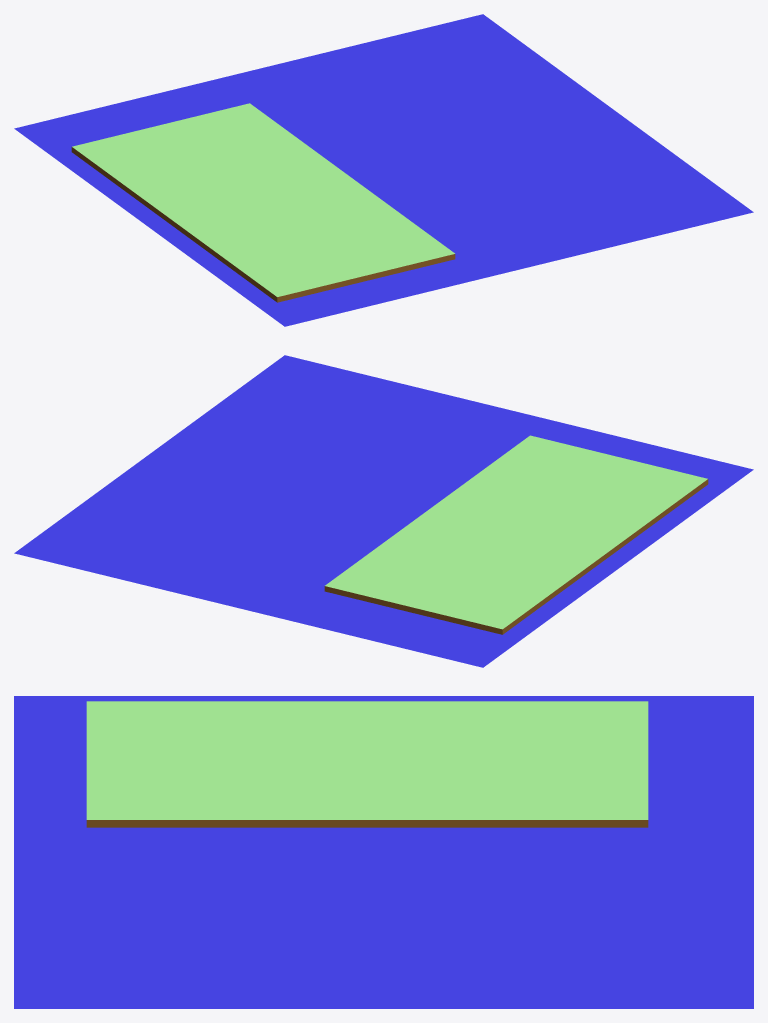
File: terrain.gltf
3 views of the same model, one above another, from view 1: azimuth 30°, elevation 25°; view 2: azimuth 150°, elevation 25°; view 3: azimuth 270°, elevation 25° (orthographic). The views are drawn at different scales.
Visible parts, largest first — view 1: Plane, Cube; view 2: Plane, Cube; view 3: Plane, Cube.
Part boxes in pixels (left/top/right/bottom): Plane: left=14, top=14, right=753, bottom=326; Cube: left=71, top=103, right=455, bottom=302; Plane: left=14, top=355, right=753, bottom=667; Cube: left=324, top=435, right=708, bottom=634; Plane: left=14, top=696, right=753, bottom=1008; Cube: left=86, top=701, right=648, bottom=827.
Bounding box in the file's own units: 20 × 0.2238 × 20.
Materials: 2 (2 with a texture image).
